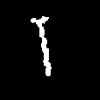half_double_crochet: (31, 16, 50, 75)
